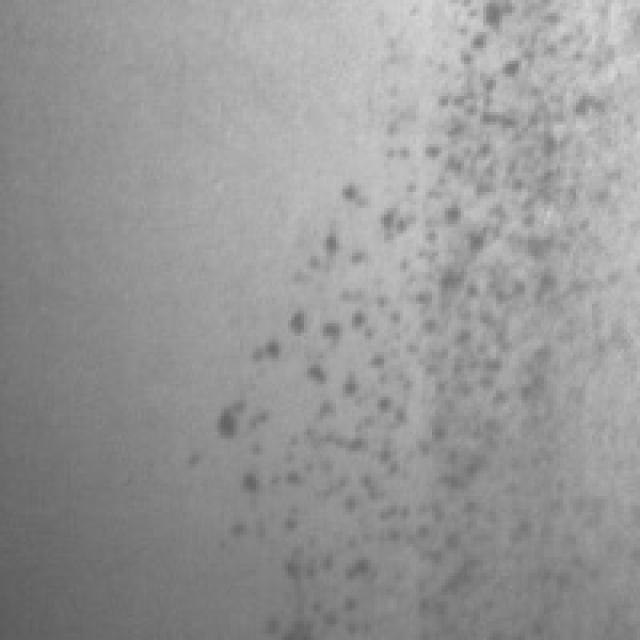pitted_surface: (211, 0, 602, 621)
